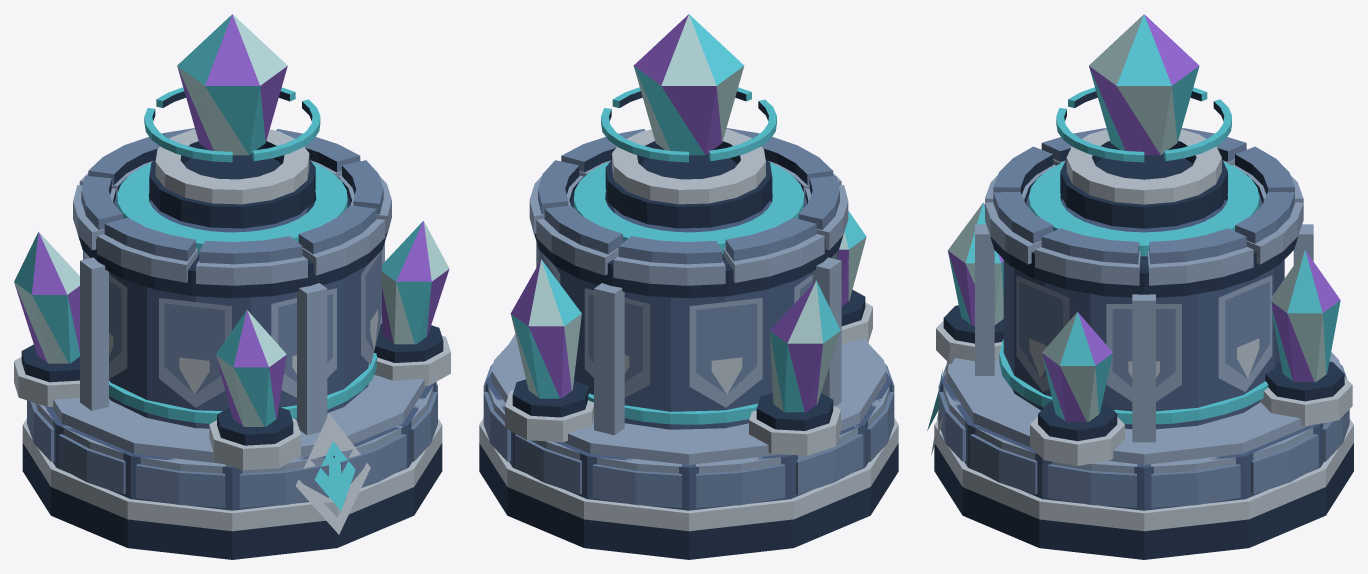
Rendered from modular-chassis-tier-2.glb.
The picture shows the model from 3 angles, left to right: view 1: azimuth 30°, elevation 25°; view 2: azimuth 150°, elevation 25°; view 3: azimuth 270°, elevation 25°; orthographic projection.
Parts seen in each view (by area): view 1: body, core-energy; view 2: body, core-energy; view 3: body, core-energy.
Boxes of the visible parts, bbox=[...] form: body: bbox=[14, 128, 450, 559]; core-energy: bbox=[144, 14, 320, 162]; body: bbox=[479, 128, 898, 559]; core-energy: bbox=[601, 14, 776, 162]; body: bbox=[927, 128, 1353, 559]; core-energy: bbox=[1056, 14, 1231, 162].
Bounding box in the file's own units: 1.06 × 1.28 × 1.08.
